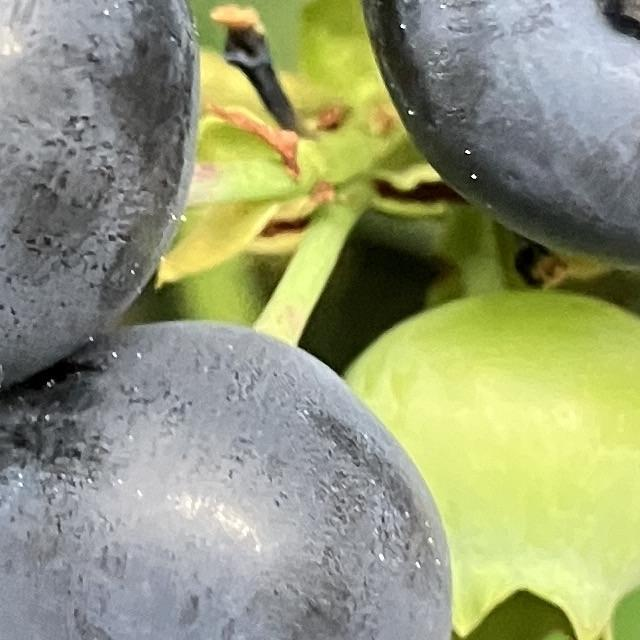Blueberries: (0, 0, 202, 405)
